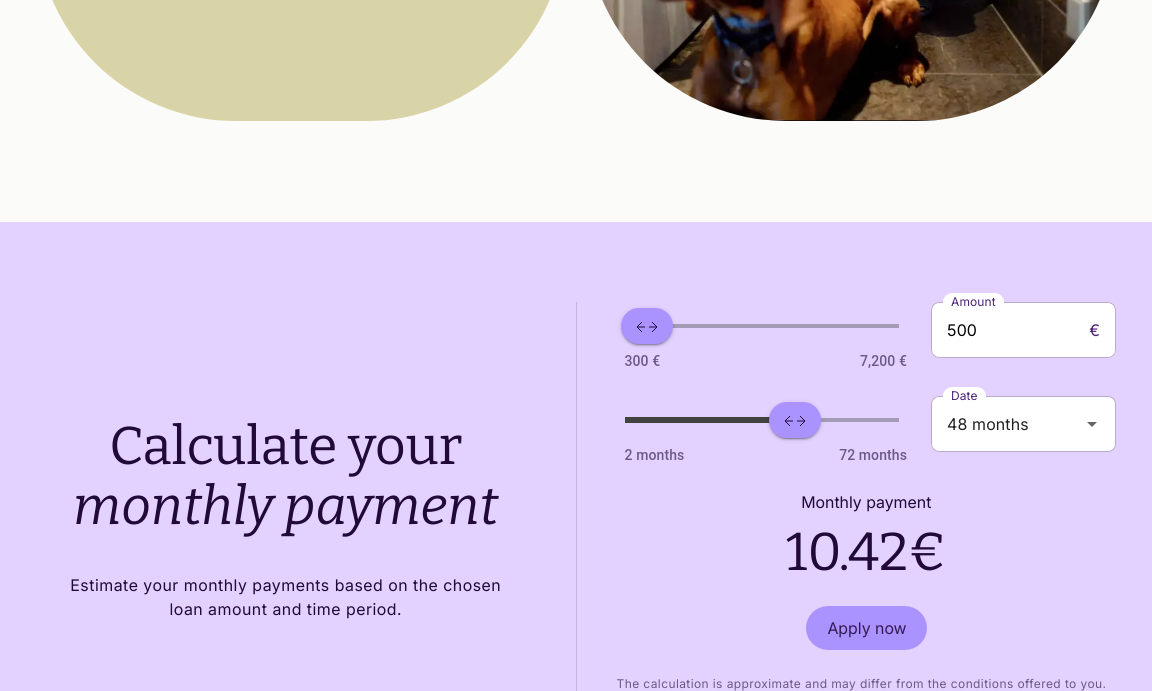
Test: Loan Calculator › handles number formatting correctly
(page scrolled)
Type "1000" into the field labelled "Amount".
click(1010, 330); type("1000")  # box [931,302,1089,358]
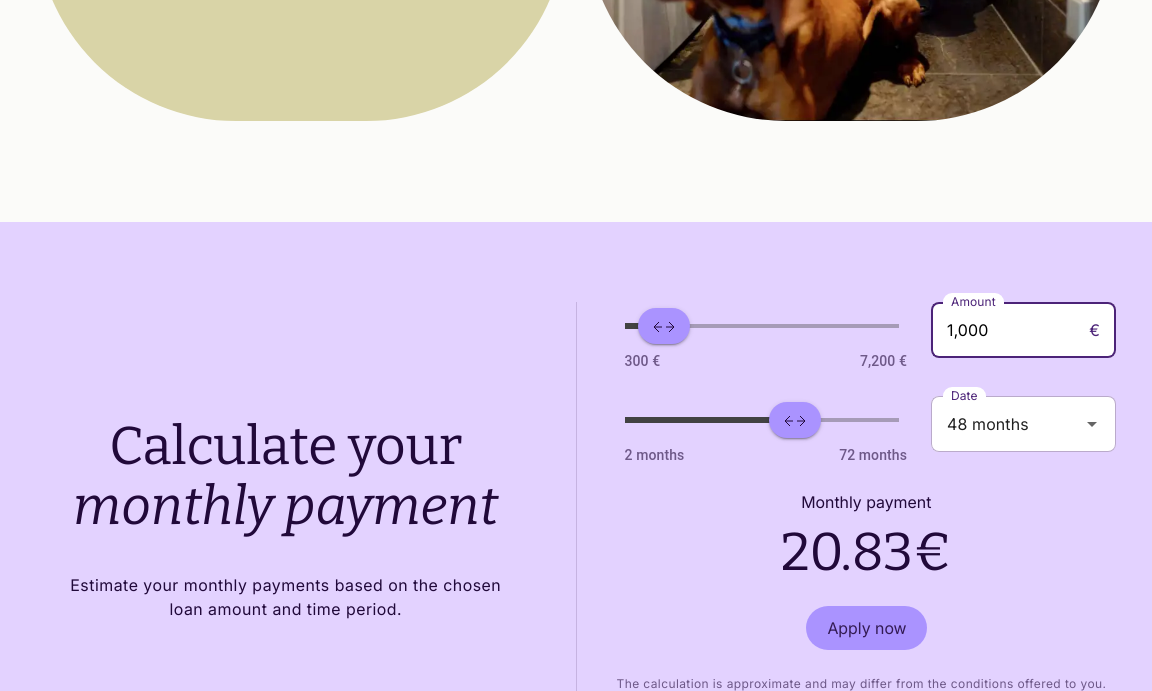
Now the field labelled "Amount" holds "1,000"
Replace the text in the field labelled "Amount" with "2,500" at x=1010, y=330, box [931,302,1089,358]
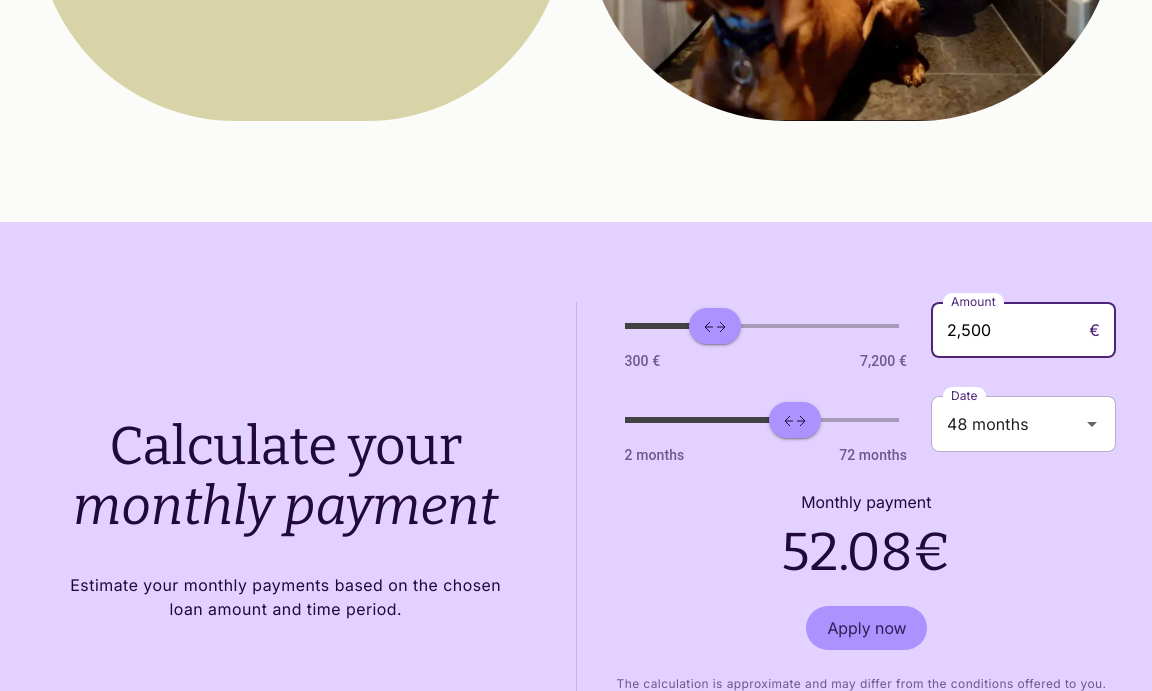
Now the field labelled "Amount" holds "2,500"
Replace the text in the field labelled "Amount" with "1,234.56" at x=1010, y=330, box [931,302,1089,358]
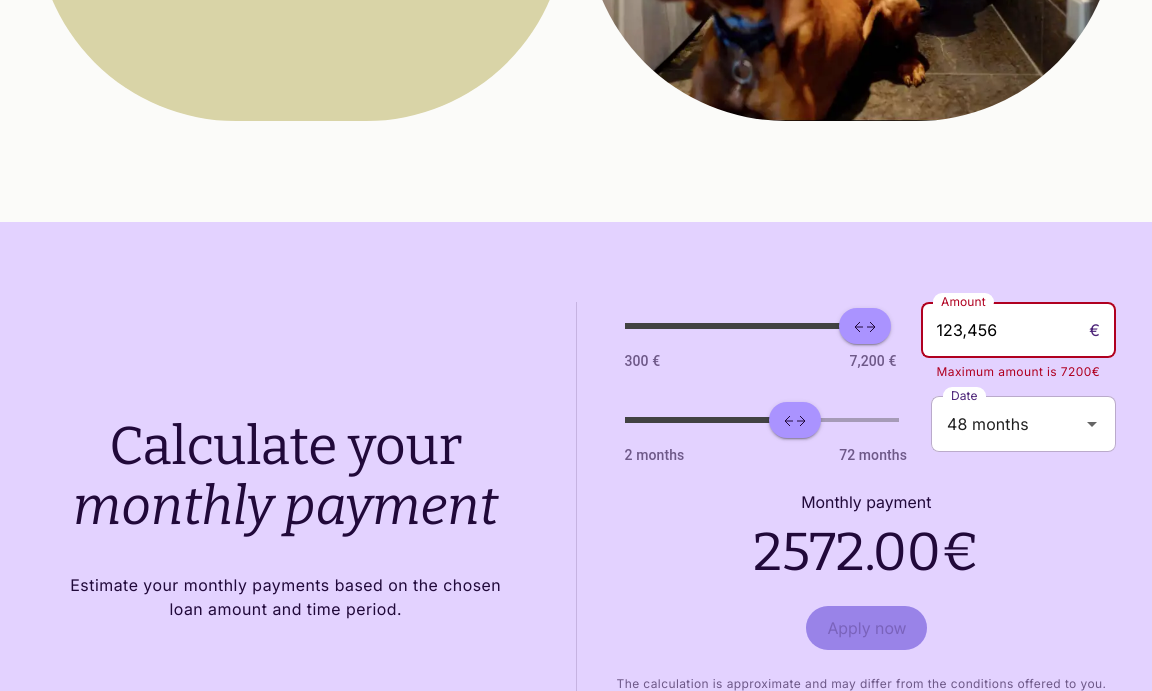
Now the field labelled "Amount" holds "123,456", box [921,302,1090,358]
